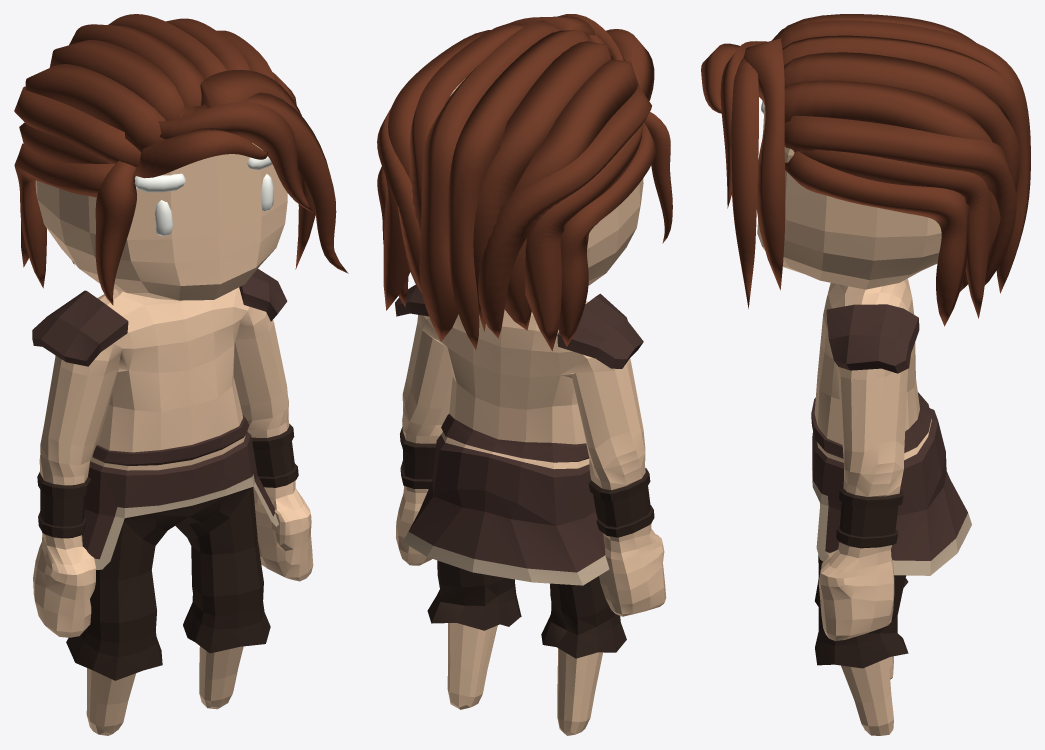
Rendered from debout-viking-female.glb.
The picture shows the model from 3 angles, left to right: view 1: azimuth 30°, elevation 25°; view 2: azimuth 150°, elevation 25°; view 3: azimuth 270°, elevation 25°; orthographic projection. The views are drawn at different scales.
Parts seen in each view (by area): view 1: Cube004, Cube004_4, Cube004_3, Cube004_2, Cube004_1, Cube004_5; view 2: Cube004_4, Cube004, Cube004_2, Cube004_3, Cube004_1; view 3: Cube004_4, Cube004, Cube004_2, Cube004_3, Cube004_1.
Part boxes in pixels (x1,y1,x2,y2): Cube004: (33,143,313,735); Cube004_4: (14,14,348,305); Cube004_3: (37,423,298,680); Cube004_2: (32,269,287,559); Cube004_1: (94,474,278,569); Cube004_5: (134,156,273,236); Cube004_4: (377,14,672,350); Cube004: (396,78,666,735); Cube004_2: (395,284,643,572); Cube004_3: (400,427,654,658); Cube004_1: (403,531,609,585); Cube004_4: (701,14,1030,326); Cube004: (757,106,941,735); Cube004_2: (811,304,967,560); Cube004_3: (815,485,908,668); Cube004_1: (812,471,971,575).
Bounding box in the file's own units: 0.6885 × 1.69 × 0.7444.
